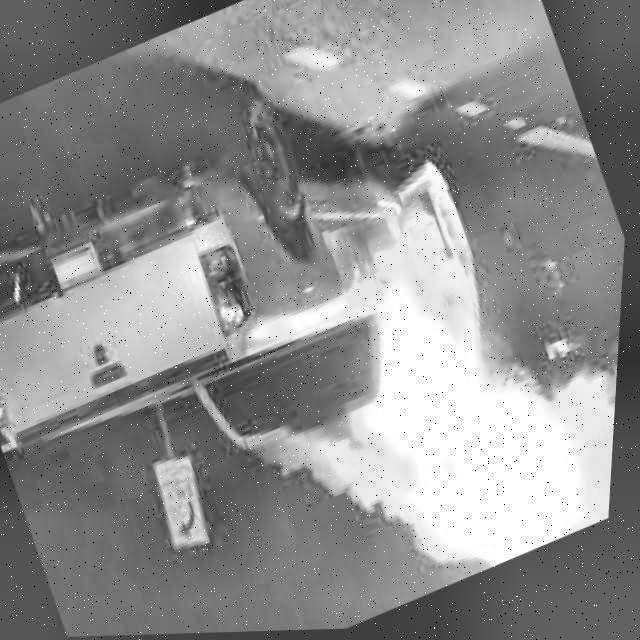Fire: (207, 182, 631, 634)
